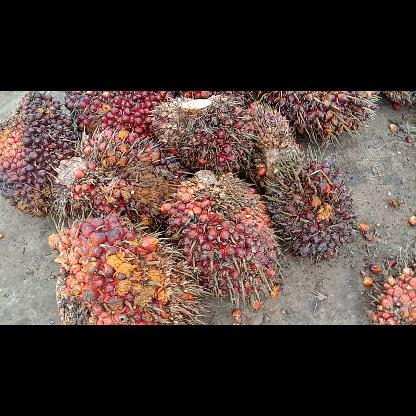TBS masak: (47, 223, 214, 324), (160, 172, 284, 302), (56, 131, 190, 233), (0, 91, 78, 217), (264, 153, 352, 261), (154, 96, 252, 170), (256, 91, 382, 148), (62, 91, 176, 139), (250, 102, 306, 172)
